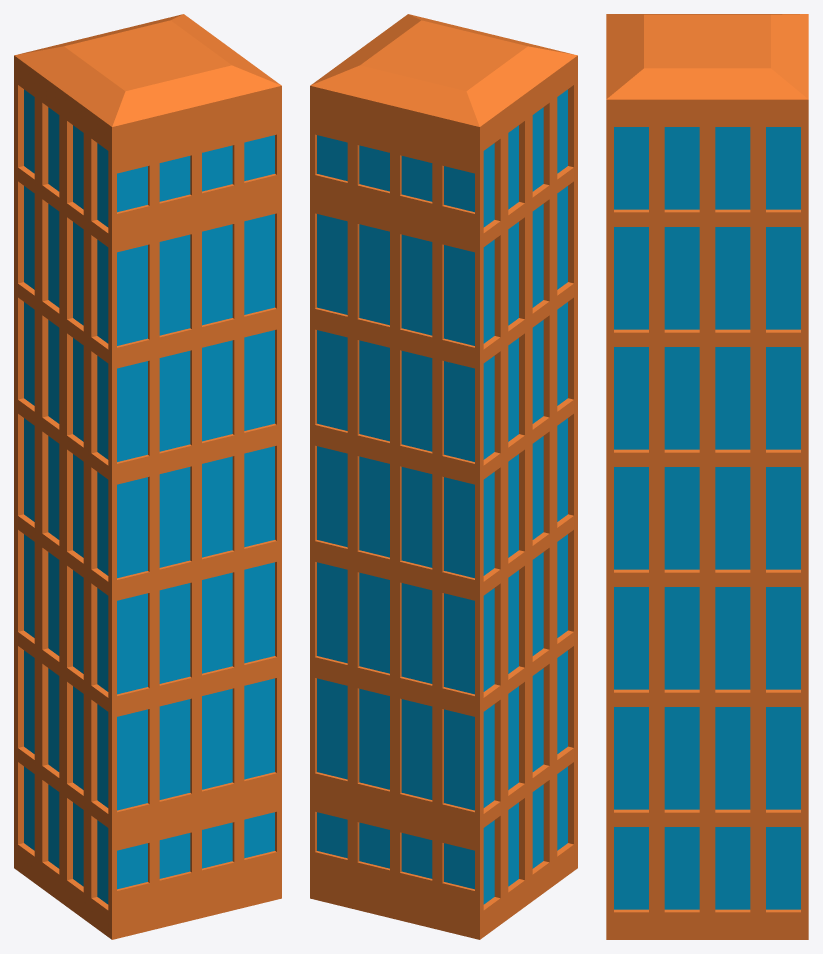
The model's file is Stupid_bulding.glb.
3 views of the same model, side by side, from view 1: azimuth 30°, elevation 25°; view 2: azimuth 150°, elevation 25°; view 3: azimuth 270°, elevation 25° (orthographic). The views are drawn at different scales.
Parts seen in each view (by area): view 1: Cube; view 2: Cube; view 3: Cube.
Part boxes in pixels (box(x1,y1,x2,y2)): Cube: box(14, 14, 281, 939); Cube: box(310, 14, 577, 939); Cube: box(606, 14, 808, 939).
Bounding box in the file's own units: 2.66 × 12.59 × 2.66.
